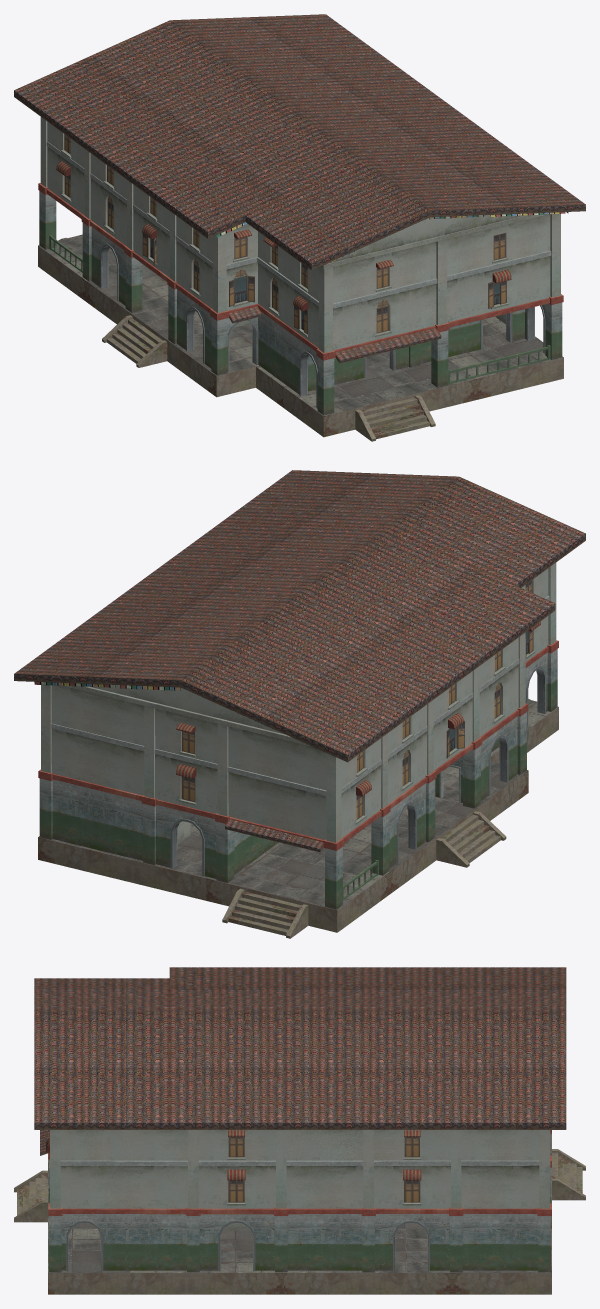
The model's file is MiniBR_Building006.fbx.
3 renders of one model, top to bottom at view 1: azimuth 30°, elevation 25°; view 2: azimuth 150°, elevation 25°; view 3: azimuth 270°, elevation 25°, orthographic. The views are drawn at different scales.
Parts seen in each view (by area): view 1: MiniBR_Building006; view 2: MiniBR_Building006; view 3: MiniBR_Building006.
Part boxes in pixels (x1=…): MiniBR_Building006: x1=14, y1=14, x2=585, y2=441; MiniBR_Building006: x1=14, y1=470, x2=585, y2=938; MiniBR_Building006: x1=14, y1=967, x2=585, y2=1294.
Bounding box in the file's own units: 2095 × 3136 × 1282.
